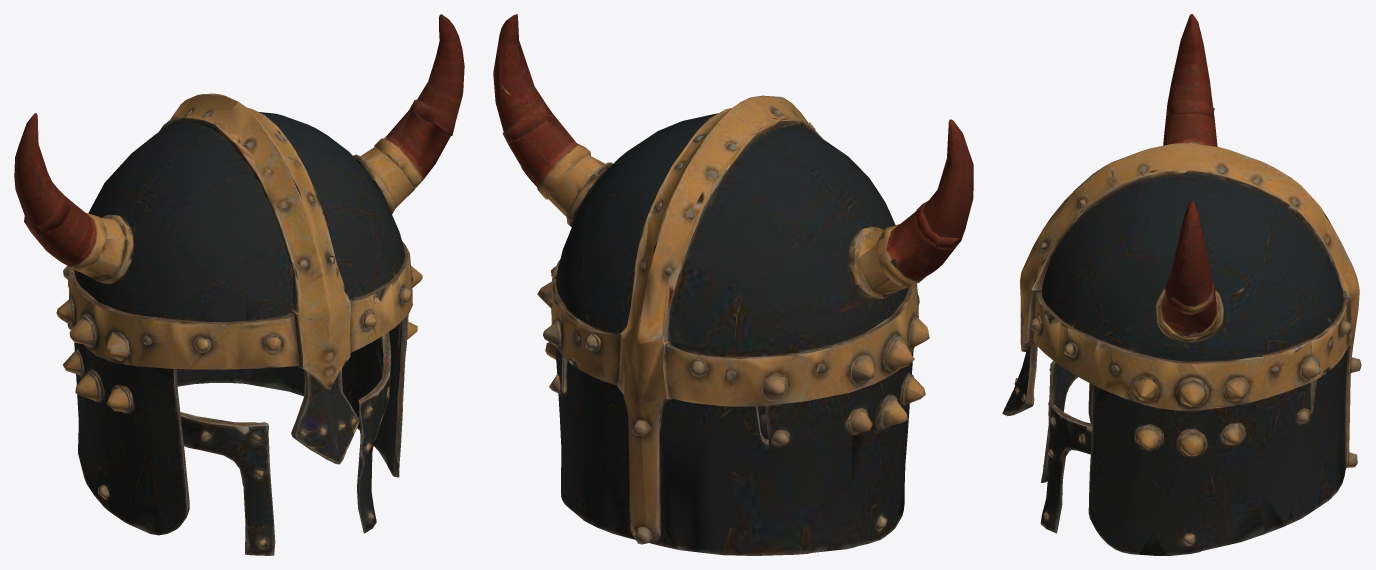
File: helm-viking.glb
3 renders of one model, left to right at view 1: azimuth 30°, elevation 25°; view 2: azimuth 150°, elevation 25°; view 3: azimuth 270°, elevation 25°, orthographic. The views are drawn at different scales.
Size of the model in its own units: 1.9 by 1.72 by 1.41.
1 material, 1 textured.
